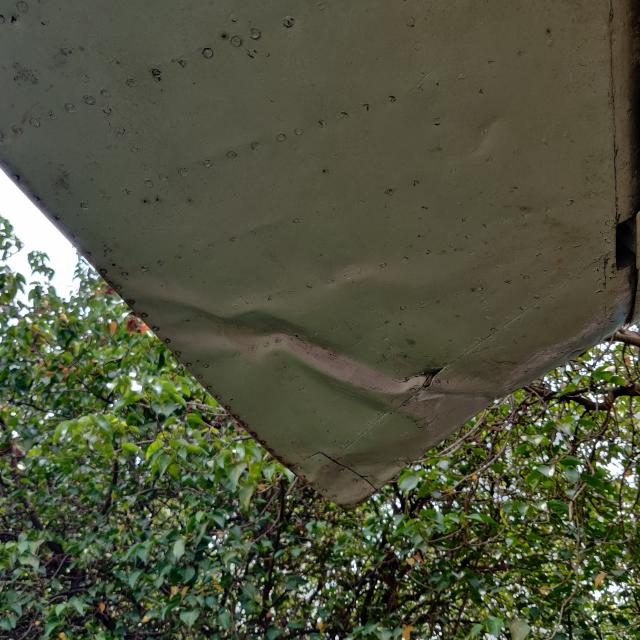crack: (392, 366, 431, 386)
dent: (120, 273, 410, 424), (444, 323, 600, 401), (301, 435, 412, 508)
